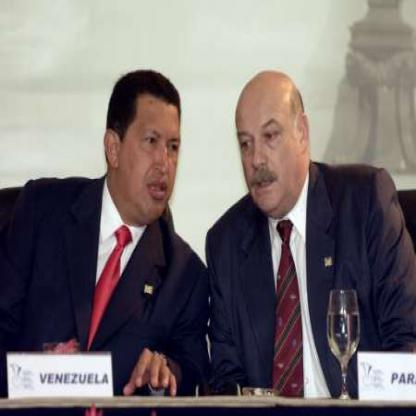face: (118, 76, 187, 223), (237, 77, 301, 215)
